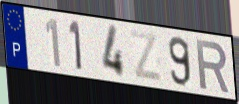1: (44, 17, 62, 69), (67, 20, 84, 73)
4: (100, 24, 126, 81)
9: (167, 35, 192, 88)
R: (194, 37, 231, 95)
Z: (128, 29, 164, 85)
